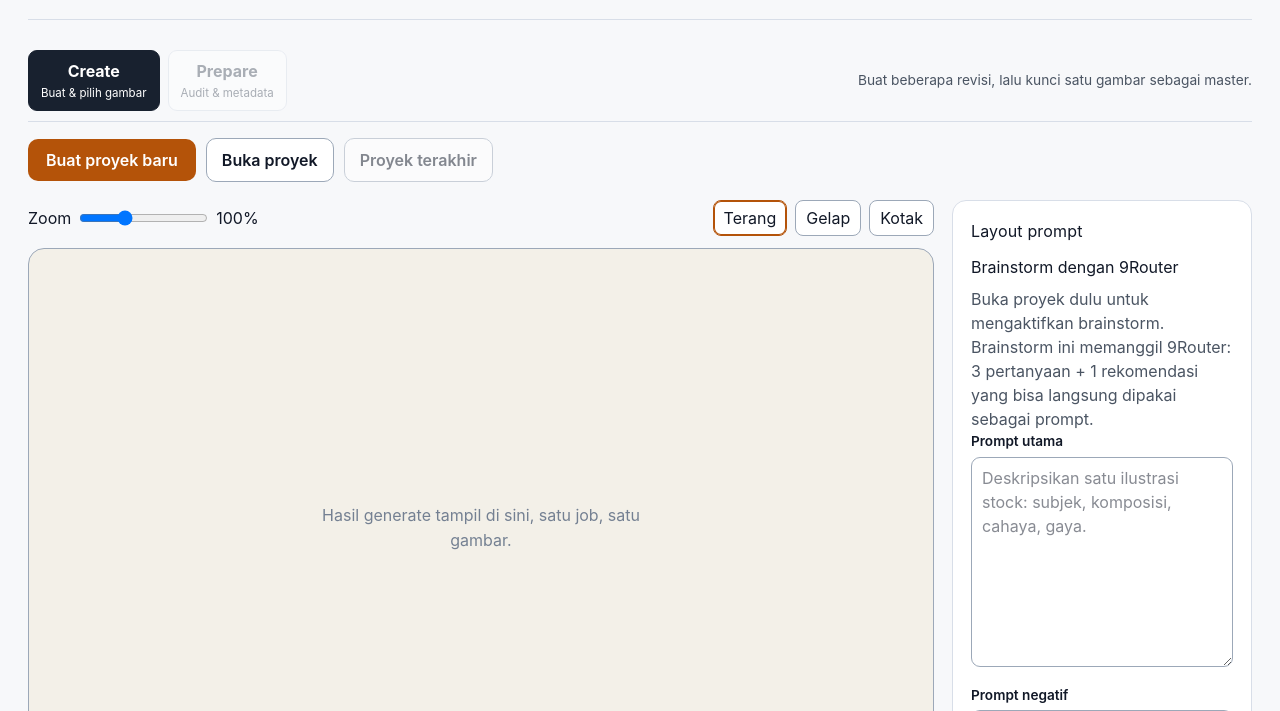
Scenario: Beranda — meja kerja studio › improves generate continuity by preselecting the latest asset revision after reopen
The image size is (1280, 711).
Click the button "Buka proyek" at (270, 160), box x1=206 y1=138 x2=334 y2=182
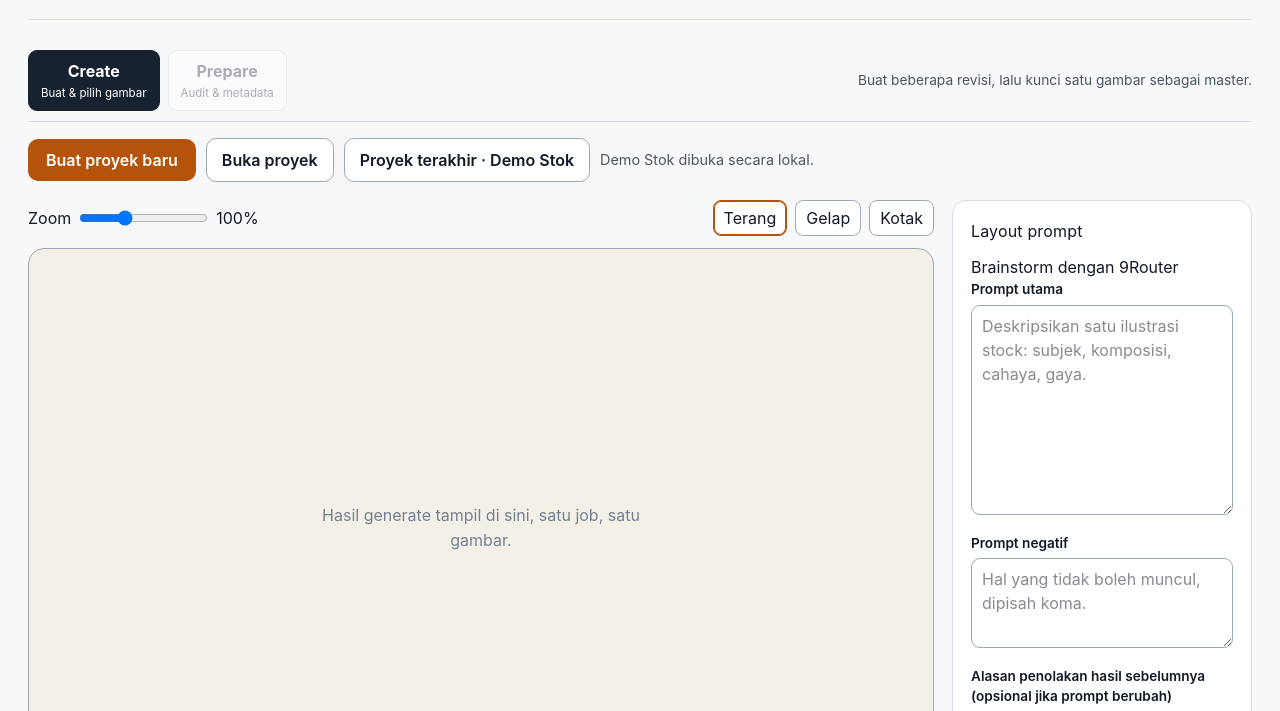
Check: the element named "Toolbar proyek" shows "dibuka secara lokal", box x1=600 y1=152 x2=814 y2=168
Replace the text in the text box labelled "Prompt utama" with "lanjut revisi asset lama" at (1102, 410), box x1=971 y1=305 x2=1233 y2=515
(page scrolled)
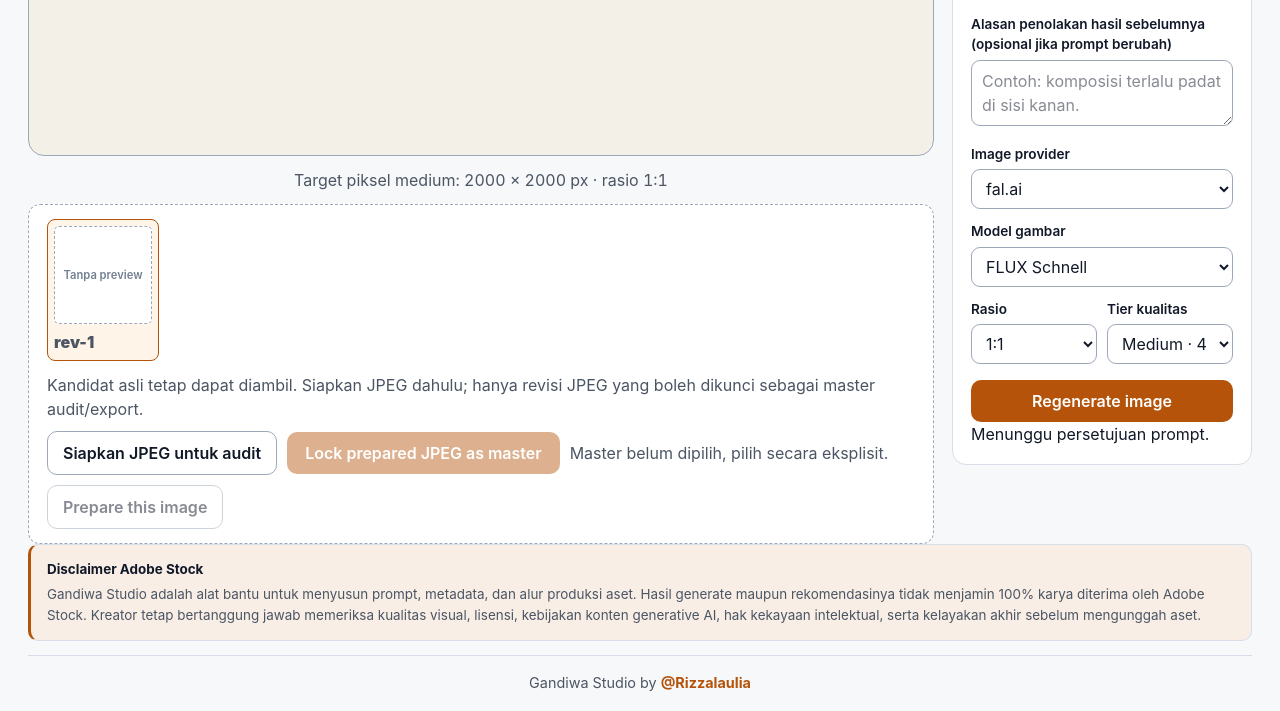
Click the button with aria-label "Setujui prompt" at (1102, 401), box x1=971 y1=380 x2=1233 y2=422
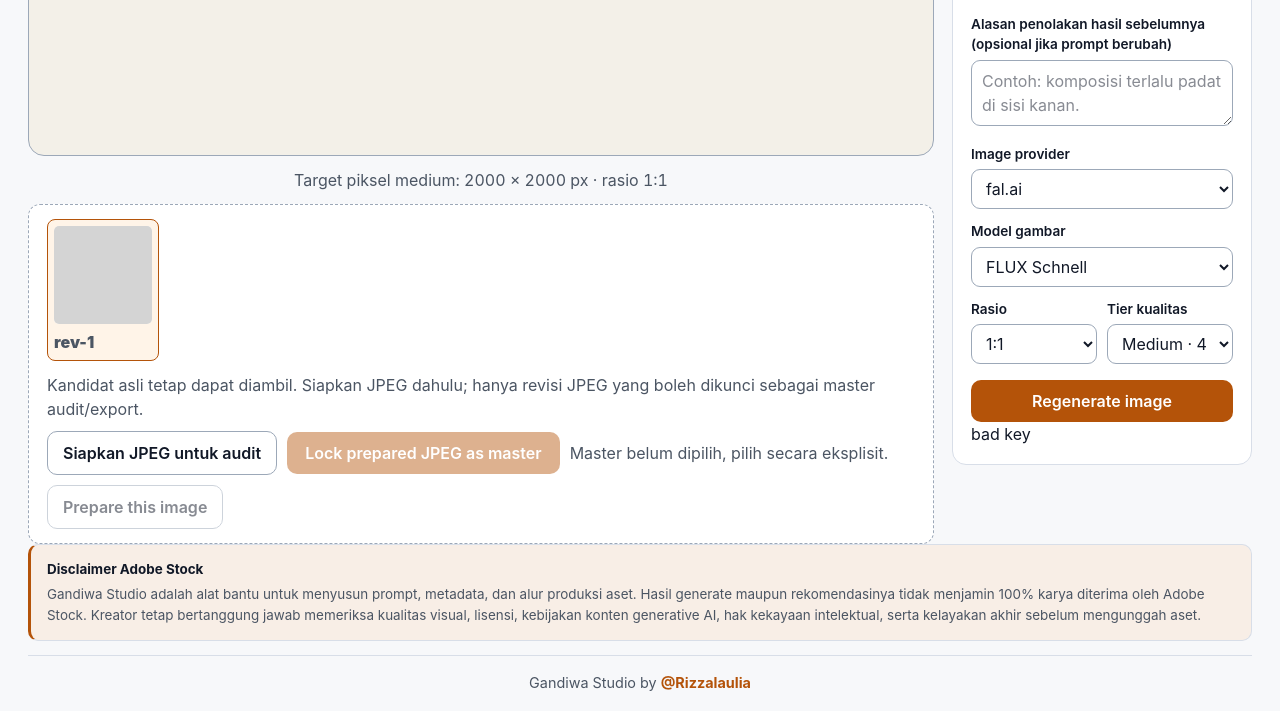
Check: the text "bad key" is shown, box x1=971 y1=424 x2=1031 y2=444
